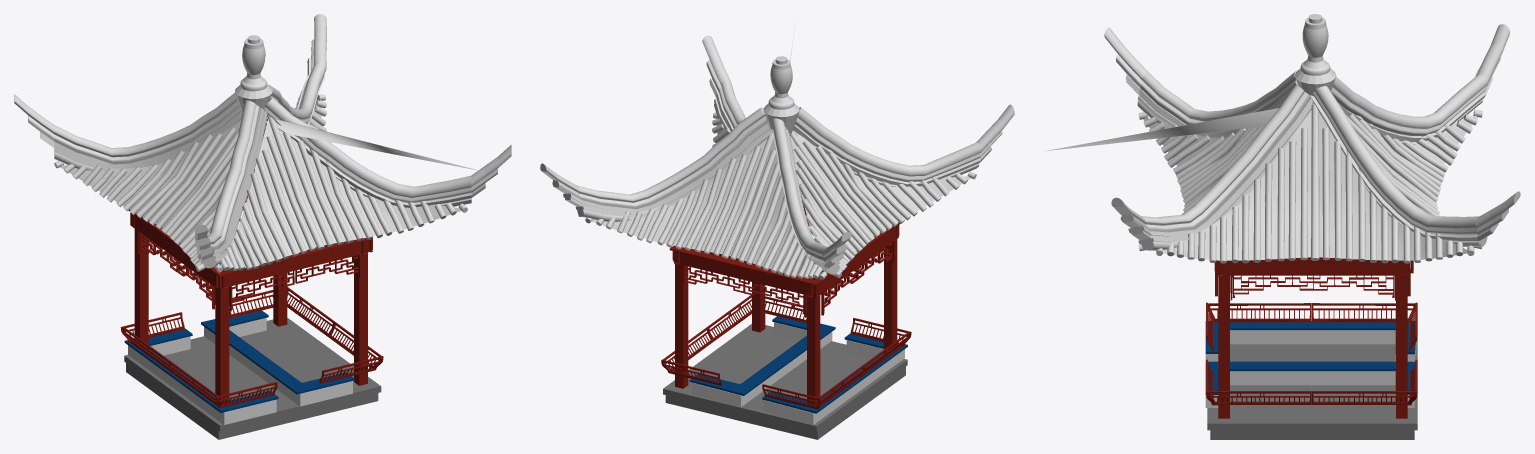
Rendered from mPavilian.FBX.
The picture shows the model from 3 angles, left to right: view 1: azimuth 30°, elevation 25°; view 2: azimuth 150°, elevation 25°; view 3: azimuth 270°, elevation 25°; orthographic projection. The views are drawn at different scales.
Parts seen in each view (by area): view 1: Box003, Loft002, Shape030, Loft004, Shape029, Shape031, Loft001, Line143, Shape026, Line142, Box002, Line006 (+16 smaller); view 2: Box003, Loft003, Shape036, Loft001, Shape037, Shape026, Shape029, Loft004, Line146, Box002, Line006, Line060 (+16 smaller); view 3: Box003, Loft002, Shape033, Shape034, Loft003, Loft004, Line144, Loft001, Shape037, Line145, Shape030, Box048 (+16 smaller).
Boxes of the visible parts, bbox=[...] form: Box003: bbox=[124, 318, 381, 431]; Loft002: bbox=[264, 98, 511, 207]; Shape030: bbox=[214, 115, 323, 272]; Loft004: bbox=[14, 93, 242, 171]; Shape029: bbox=[54, 127, 239, 232]; Shape031: bbox=[273, 119, 467, 249]; Loft001: bbox=[194, 100, 267, 268]; Line143: bbox=[278, 126, 461, 245]; Shape026: bbox=[162, 130, 239, 271]; Line142: bbox=[220, 119, 316, 267]; Box002: bbox=[126, 363, 378, 439]; Line006: bbox=[128, 336, 276, 424]; Box003: bbox=[663, 324, 907, 431]; Loft003: bbox=[540, 107, 771, 221]; Shape036: bbox=[585, 132, 771, 258]; Loft001: bbox=[793, 104, 1014, 187]; Shape037: bbox=[723, 132, 827, 280]; Shape026: bbox=[792, 130, 976, 239]; Shape029: bbox=[790, 131, 873, 277]; Loft004: bbox=[771, 118, 851, 274]; Line146: bbox=[591, 138, 767, 254]; Box002: bbox=[665, 367, 905, 439]; Line006: bbox=[764, 340, 904, 424]; Line060: bbox=[689, 316, 835, 395]; Box003: bbox=[1207, 337, 1417, 430]; Loft002: bbox=[1044, 85, 1313, 250]; Shape033: bbox=[1156, 104, 1317, 263]; Shape034: bbox=[1312, 105, 1474, 263]; Loft003: bbox=[1310, 86, 1520, 246]; Loft004: bbox=[1331, 24, 1509, 145]; Line144: bbox=[1163, 110, 1311, 260]; Loft001: bbox=[1104, 27, 1298, 137]; Shape037: bbox=[1346, 109, 1482, 203]; Line145: bbox=[1319, 112, 1467, 260]; Shape030: bbox=[1138, 112, 1263, 205]; Box048: bbox=[1223, 259, 1406, 275].
Size of the model in its own units: 10570 by 10721 by 12140.
